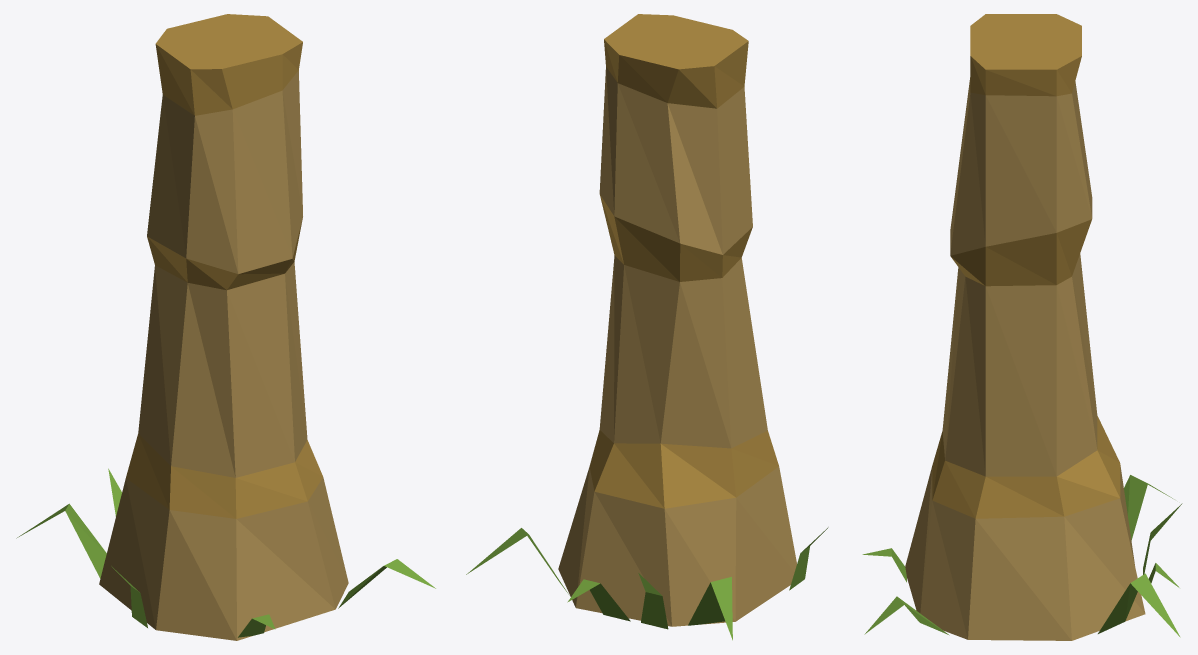
Rendered from obj_leafy_palm_tree_2_0.obj.
3 views of the same model, side by side, from view 1: azimuth 30°, elevation 25°; view 2: azimuth 150°, elevation 25°; view 3: azimuth 270°, elevation 25° (orthographic). The views are drawn at different scales.
Bounding box in the file's own units: 1 × 1.88 × 0.9922.
